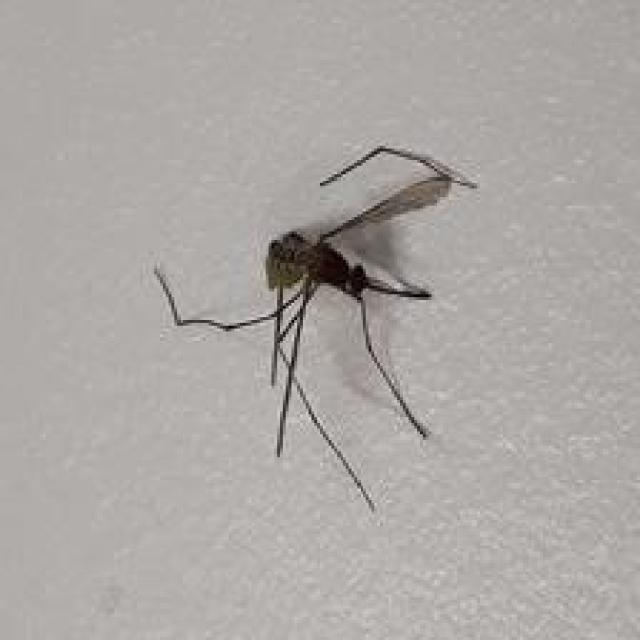Culex: (153, 143, 478, 511)
